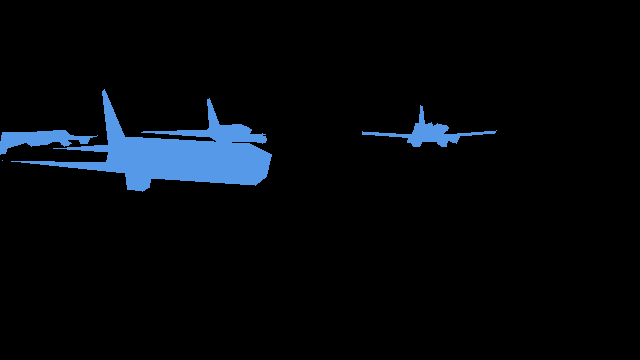Airplane: (2, 89, 271, 192), (141, 98, 266, 144), (362, 105, 497, 146), (0, 130, 97, 154)
